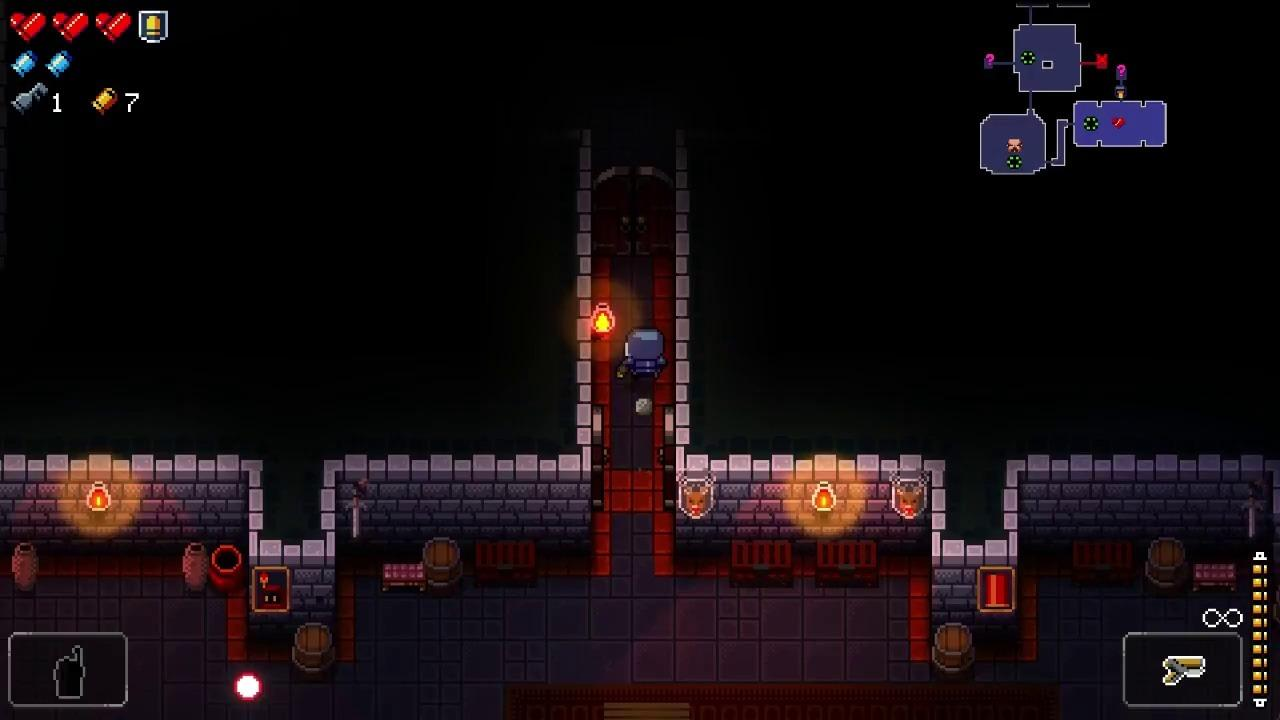bullet: (234, 671, 263, 703)
player: (628, 329, 664, 379)
unlocked_door: (590, 166, 675, 256), (592, 404, 605, 509), (664, 404, 676, 510)
